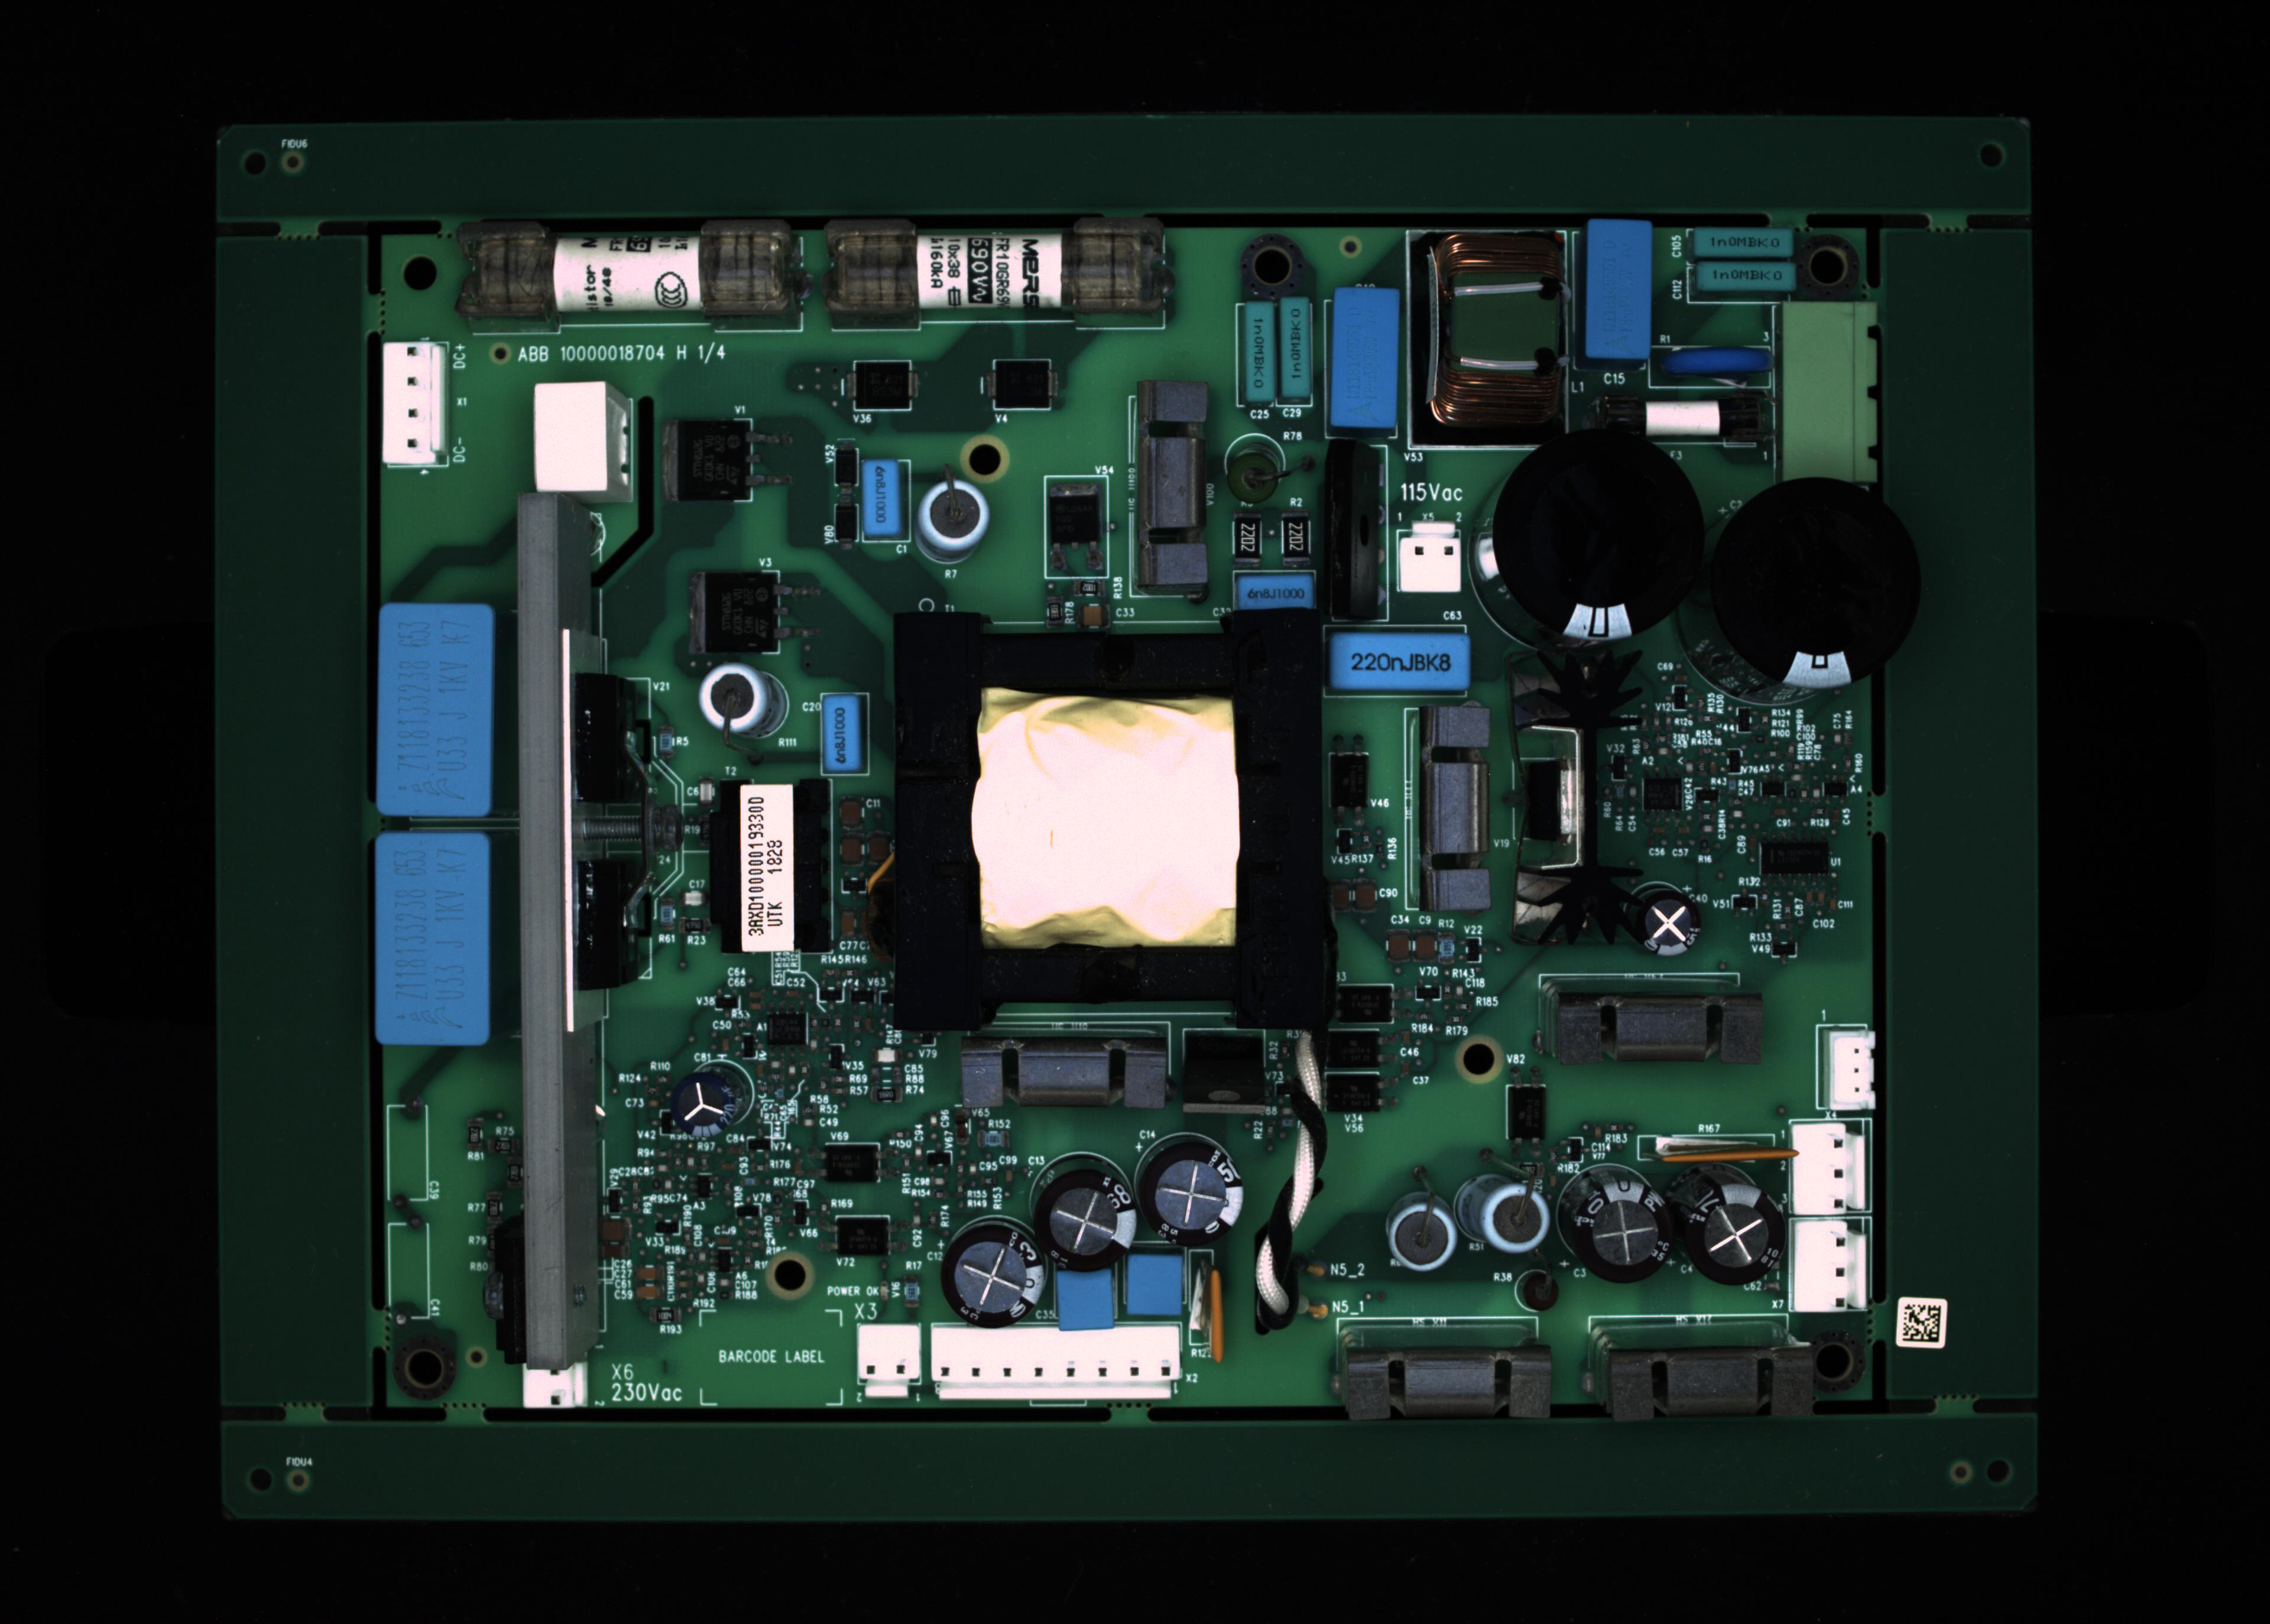10_p: (1648, 346, 1772, 394)
11_q: (1783, 302, 1876, 482)
12_r: (1591, 387, 1776, 455)
13_s: (383, 343, 443, 460)
14_t: (538, 383, 629, 501)
15_e: (862, 460, 899, 538)
16_k: (911, 478, 988, 564)
17_u: (1127, 385, 1206, 608)
18_v: (1240, 575, 1313, 610)
19_w: (1329, 629, 1468, 689)
1_a: (464, 216, 807, 332)
20_f: (1398, 522, 1461, 592)
21_g: (1493, 425, 1709, 643)
22_g: (1711, 478, 1925, 687)
23_h: (376, 606, 491, 814)
24_h: (376, 835, 489, 1048)
25_f: (524, 1362, 587, 1408)
26_f: (858, 1325, 920, 1396)
27_x: (932, 1329, 1180, 1397)
28_i: (1139, 1135, 1247, 1246)
29_i: (1032, 1165, 1139, 1272)
2_a: (819, 216, 1175, 330)
30_i: (937, 1222, 1048, 1329)
31_j: (1055, 1269, 1117, 1330)
32_j: (1125, 1258, 1187, 1313)
33_e: (825, 696, 862, 772)
34_k: (1386, 1190, 1454, 1274)
35_k: (1456, 1171, 1551, 1253)
36_i: (1570, 1178, 1674, 1281)
37_i: (1681, 1181, 1785, 1287)
38_l: (1343, 1345, 1554, 1420)
39_l: (1604, 1346, 1823, 1418)
3_b: (1241, 297, 1270, 402)
40_l: (1554, 990, 1769, 1069)
41_y: (1421, 705, 1491, 912)
42_z: (1830, 1032, 1876, 1109)
43_m: (1792, 1123, 1866, 1214)
44_m: (1792, 1220, 1867, 1313)
45_i: (668, 1067, 740, 1139)
46_n: (1338, 984, 1393, 1023)
47_n: (821, 1142, 881, 1183)
48_n: (835, 1218, 890, 1260)
49_aa: (767, 1012, 807, 1046)
4_b: (1280, 302, 1312, 399)
50_n: (1324, 1030, 1377, 1069)
51_n: (1324, 1074, 1377, 1111)
52_ab: (1329, 740, 1377, 831)
53_ac: (1656, 1130, 1790, 1165)
54_ad: (1210, 1253, 1222, 1360)
55_l: (957, 1021, 1175, 1118)
56_ae: (1178, 1026, 1268, 1114)
57_af: (1514, 650, 1642, 949)
58_i: (1630, 888, 1706, 958)
59_o: (993, 359, 1051, 408)
5_c: (1331, 286, 1398, 427)
60_o: (858, 362, 911, 410)
6_ag: (1410, 232, 1572, 446)
7_c: (1586, 218, 1649, 359)
8_d: (1692, 225, 1790, 257)
9_d: (1697, 262, 1801, 294)
